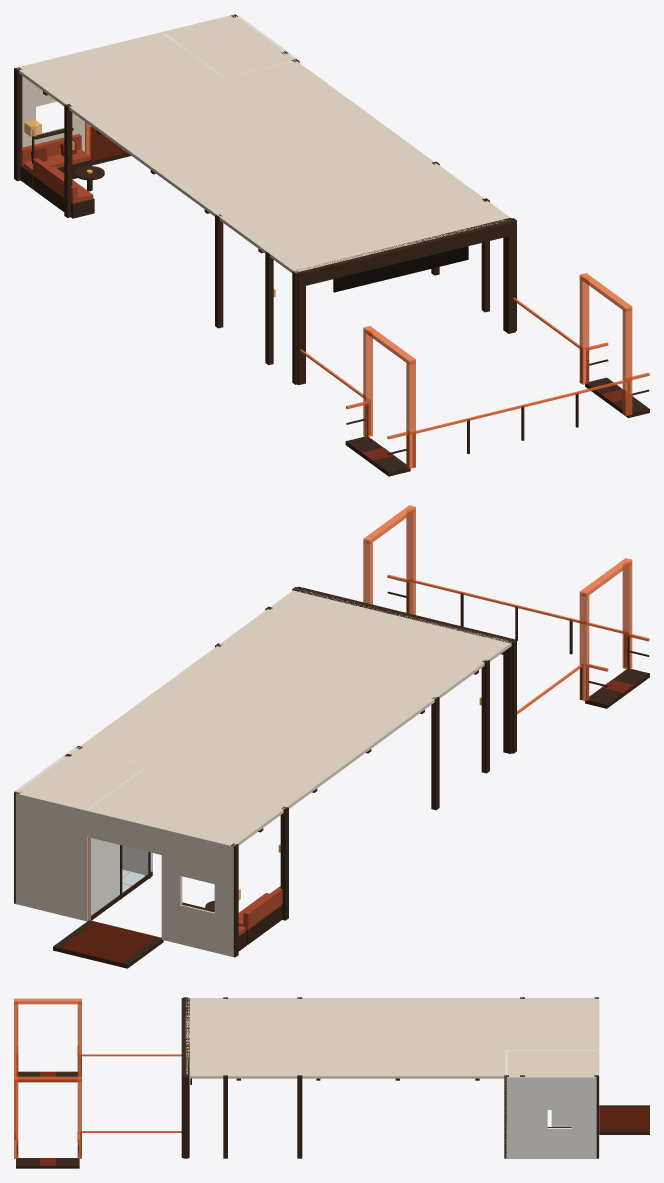
The model's file is skyfleet_bake2_01.glb.
3 views of the same model, one above another, from view 1: azimuth 30°, elevation 25°; view 2: azimuth 150°, elevation 25°; view 3: azimuth 270°, elevation 25° (orthographic). The views are drawn at different scales.
Visible parts, largest first — view 1: baked; view 2: baked; view 3: baked.
Boxes of the visible parts, x1,y1,x2,y2 form: baked: (14, 14, 649, 476); baked: (14, 505, 649, 968); baked: (14, 997, 649, 1168).
Size of the model in its own units: 8.4 by 3.52 by 23.99.
